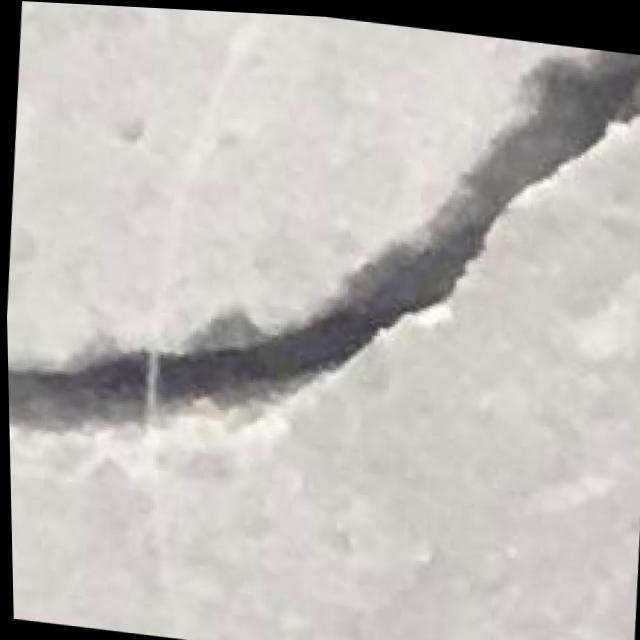Crack: (0, 0, 640, 519)
